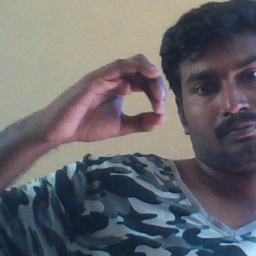O: (57, 46, 167, 147)
